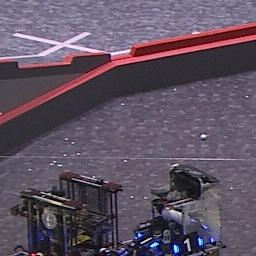Blue: (173, 234, 203, 254)
Robot: (14, 172, 130, 256), (128, 164, 228, 256)
